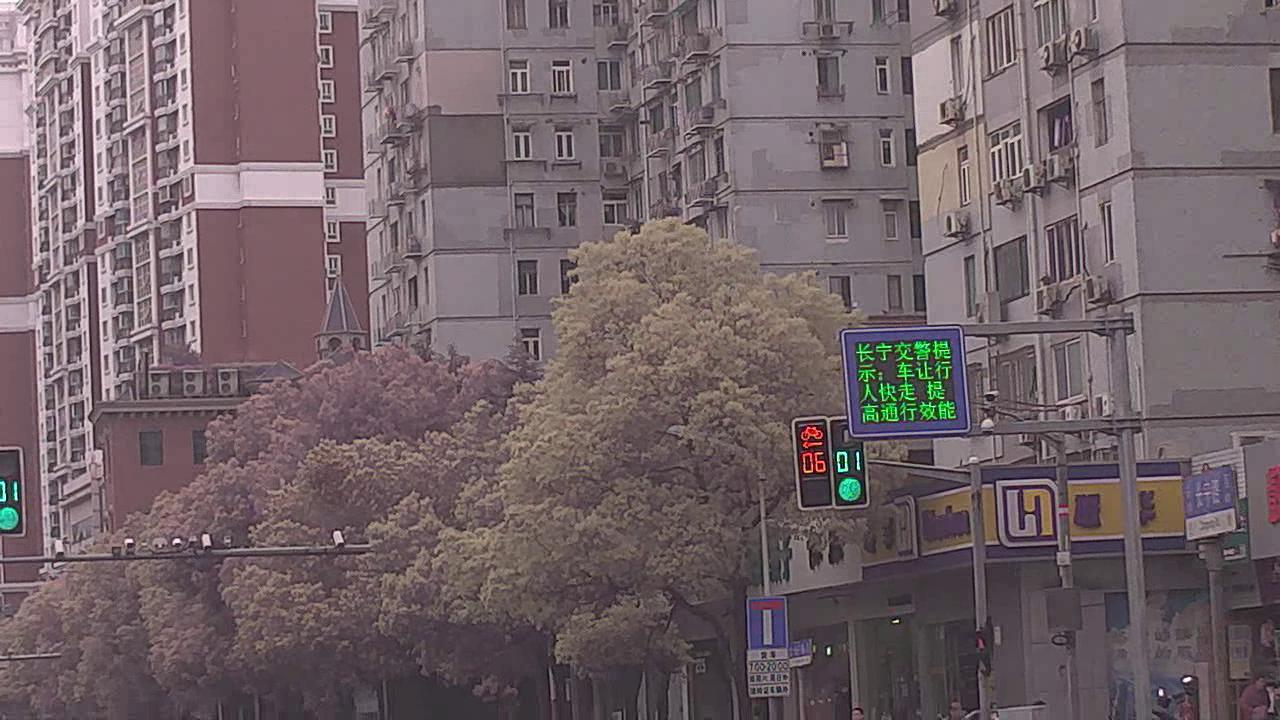traffic_light: (797, 420, 833, 508), (839, 418, 873, 506), (2, 448, 27, 531)
